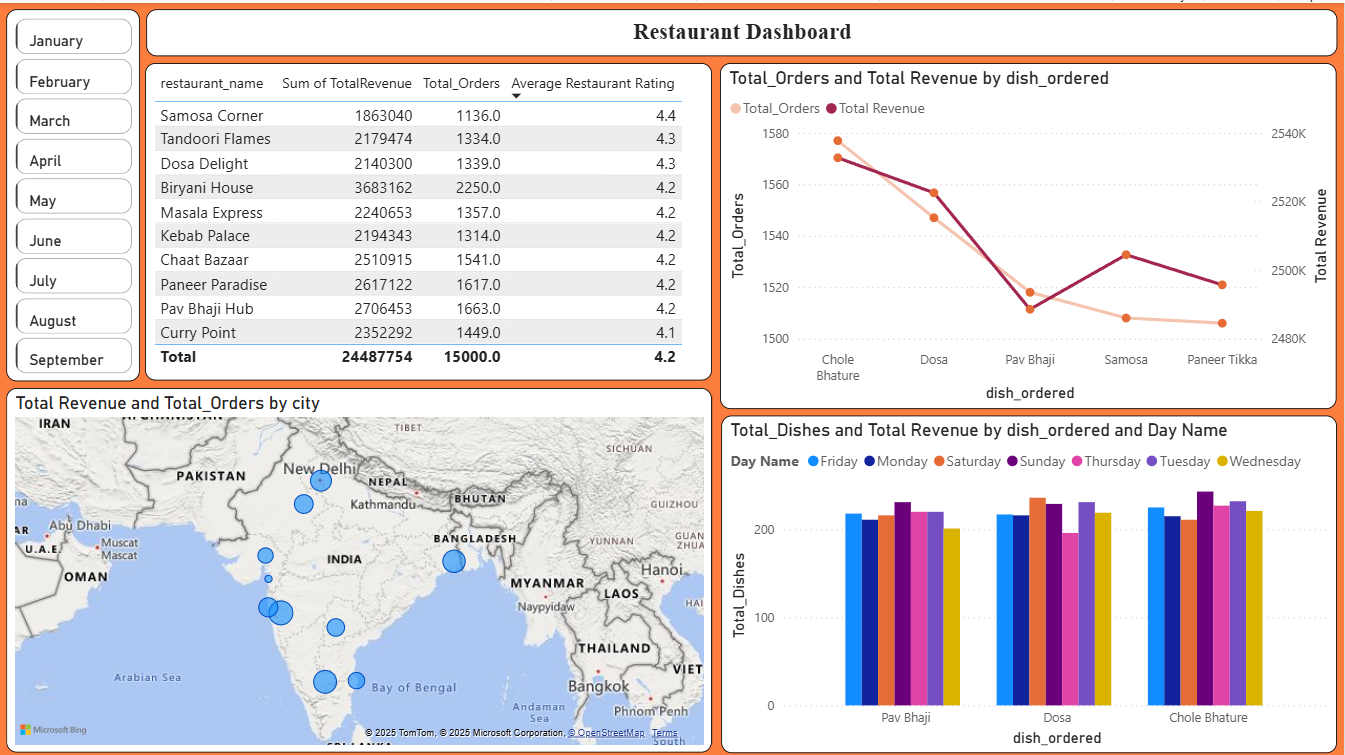

Layout of this report page (visuals, bound fields, positions):
{"tool":"powerbi","page":{"name":"Restaurant Dashboard","canvas":[1280,720],"ordinal":2},"visuals":[{"type":"textbox","box":[139,6,1134,45],"z":0},{"type":"advancedSlicerVisual","fields":{"Values":["Custom_Calender.Date.Variation.Date Hierarchy.Month"]},"box":[5.5,5.5,127.3,354.5],"z":1000},{"type":"clusteredColumnChart","fields":{"Category":["orders.dish_ordered"],"Y":["orders.Total_Dishes"],"Series":["Custom_Calender.Day Name"]},"box":[686.4,392.7,586.4,321.8],"z":2000},{"type":"tableEx","fields":{"Values":["restaurants.restaurant_name","Sum(orders.TotalRevenue)","orders.Total_Orders","orders.Average Restaurant Rating"]},"box":[138.2,57.3,540,302.7],"z":3000},{"type":"lineChart","fields":{"Category":["orders.dish_ordered"],"Y":["orders.Total_Orders"],"Y2":["orders.Total Revenue"]},"box":[686.2,57.7,586.9,329.2],"z":4000},{"type":"map","fields":{"Category":["restaurants.city"],"Size":["orders.Total Revenue"]},"box":[6.4,366.4,671.8,347.3],"z":5000}]}

Visuals, with their boxes in screenshot pixels (x1, y1, x2, y2), scaled from the page's 1280x720 canvas onto the 1345x755 screenshot:
textbox: pyautogui.locateOnScreen(146, 6, 1338, 53)
advancedSlicerVisual - Custom_Calender.Date.Variation.Date Hierarchy.Month: pyautogui.locateOnScreen(6, 6, 140, 378)
clusteredColumnChart - orders.dish_ordered x orders.Total_Dishes: pyautogui.locateOnScreen(721, 412, 1337, 749)
tableEx - restaurants.restaurant_name x Sum(orders.TotalRevenue): pyautogui.locateOnScreen(145, 60, 713, 378)
lineChart - orders.dish_ordered x orders.Total_Orders: pyautogui.locateOnScreen(721, 61, 1338, 406)
map - restaurants.city x orders.Total Revenue: pyautogui.locateOnScreen(7, 384, 713, 748)
